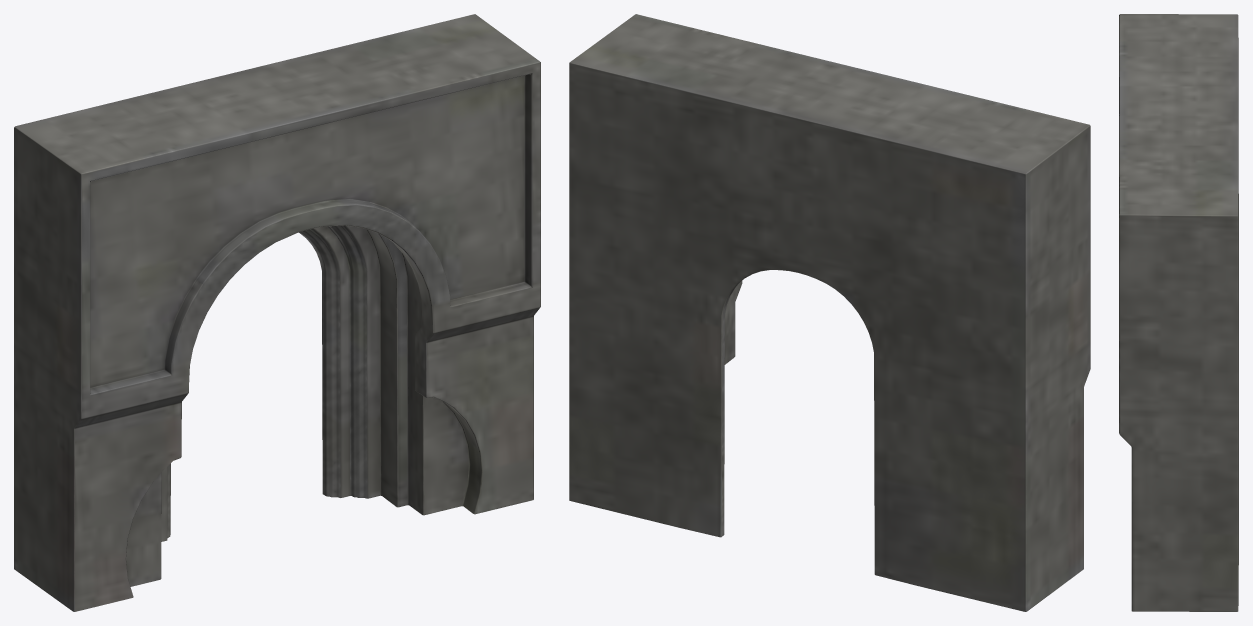
File: Niflheim_Hall_Arch.glb
3 renders of one model, left to right at view 1: azimuth 30°, elevation 25°; view 2: azimuth 150°, elevation 25°; view 3: azimuth 270°, elevation 25°, orthographic. The views are drawn at different scales.
Parts seen in each view (by area): view 1: Hall entrance arch; view 2: Hall entrance arch; view 3: Hall entrance arch.
Part boxes in pixels (x1=…): Hall entrance arch: x1=14, y1=14, x2=540, y2=611; Hall entrance arch: x1=569, y1=14, x2=1090, y2=611; Hall entrance arch: x1=1119, y1=14, x2=1238, y2=611.
Bounding box in the file's own units: 7.61 × 6.98 × 1.91.
Materials: 1 (1 with a texture image).
